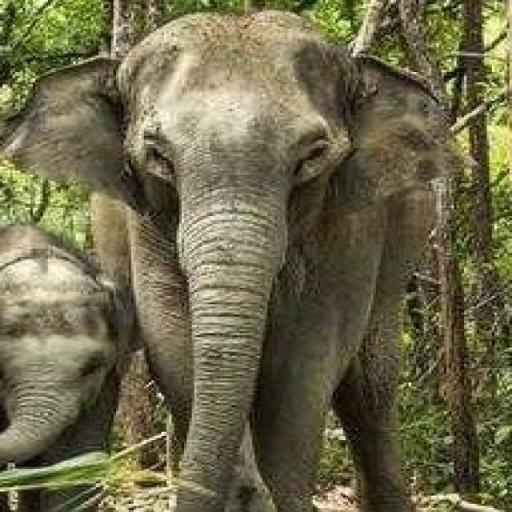Elephant: (0, 8, 479, 510), (0, 220, 134, 510)
